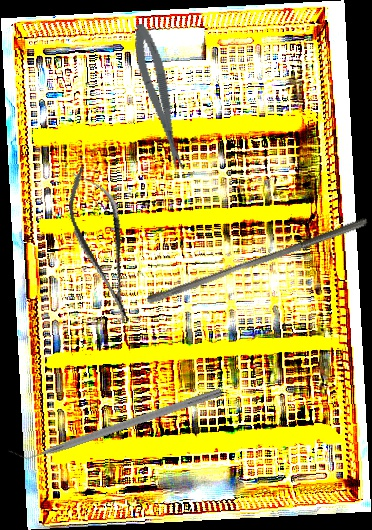Chopper: (6, 376, 224, 468)
Micro Scissor: (56, 160, 148, 331), (128, 21, 189, 174)
Pusher: (145, 208, 369, 313)
